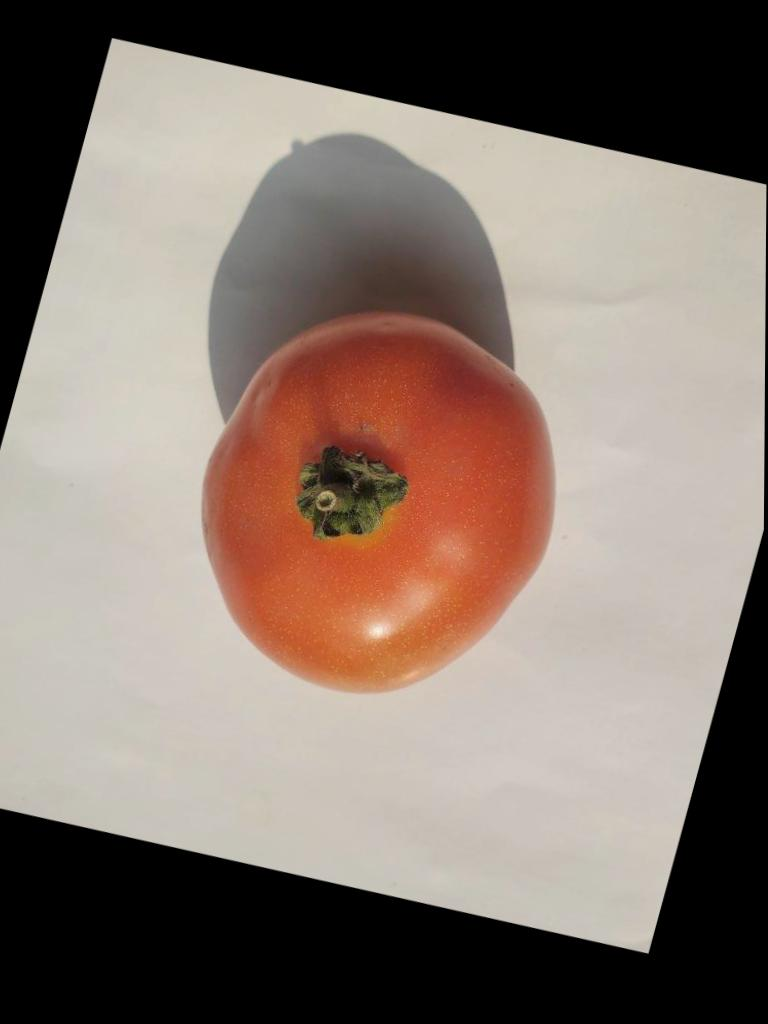tomato: (203, 311, 553, 691)
